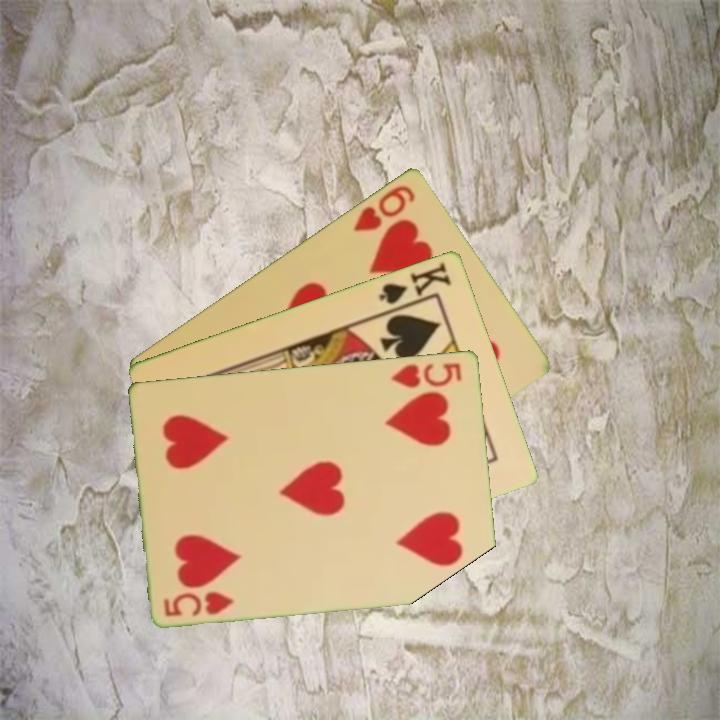5h: (388, 358, 465, 391), (160, 587, 237, 619)
6h: (350, 181, 418, 234)
Ks: (375, 258, 455, 314)
